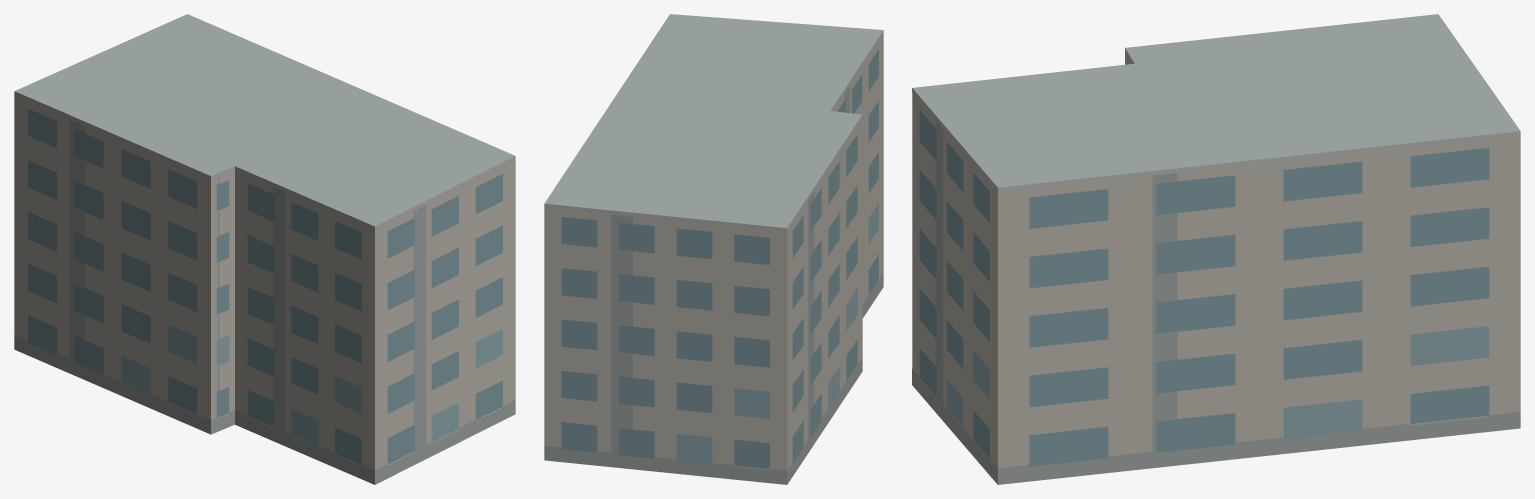
File: residential-e31df174-df9d-43fe-ab23-a1370483a92c.glb
3 renders of one model, left to right at view 1: azimuth 30°, elevation 25°; view 2: azimuth 150°, elevation 25°; view 3: azimuth 270°, elevation 25°, orthographic. The views are drawn at different scales.
Parts seen in each view (by area): view 1: residential-e31df174-df9d-43fe-ab23-a1370483a92c.tmp; view 2: residential-e31df174-df9d-43fe-ab23-a1370483a92c.tmp; view 3: residential-e31df174-df9d-43fe-ab23-a1370483a92c.tmp.
Part boxes in pixels (x1=…): residential-e31df174-df9d-43fe-ab23-a1370483a92c.tmp: x1=14, y1=14, x2=515, y2=484; residential-e31df174-df9d-43fe-ab23-a1370483a92c.tmp: x1=544, y1=14, x2=883, y2=484; residential-e31df174-df9d-43fe-ab23-a1370483a92c.tmp: x1=912, y1=14, x2=1520, y2=484.
Size of the model in its own units: 19.12 by 15.25 by 28.31.
